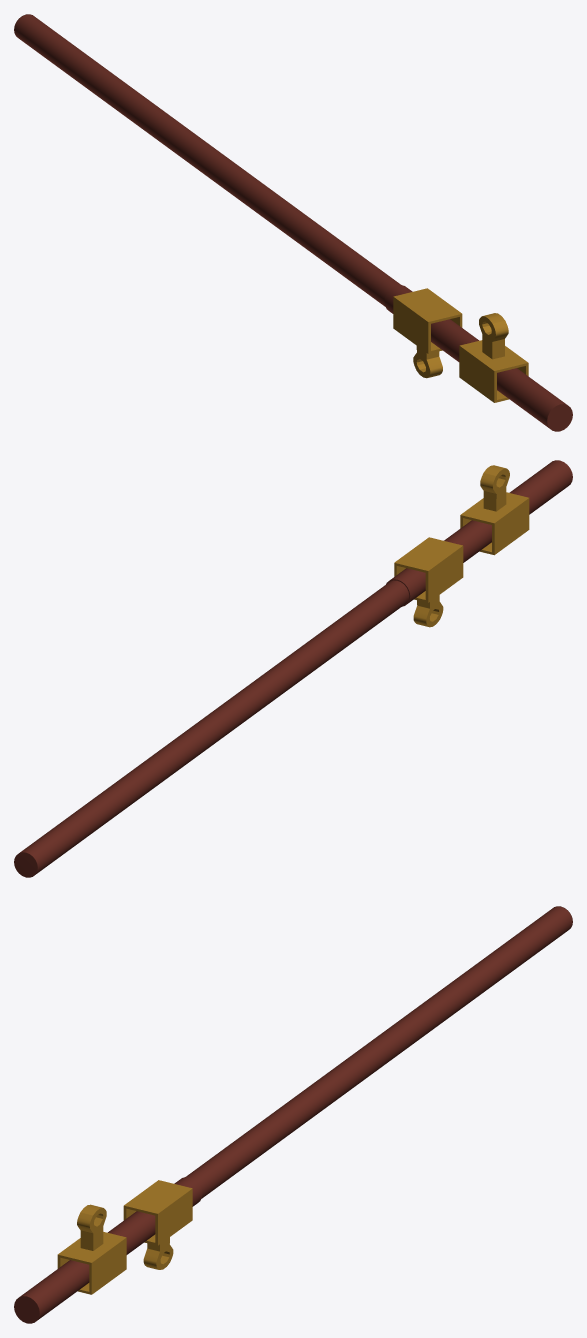
The picture shows the model from 3 angles, top to bottom: view 1: azimuth 30°, elevation 25°; view 2: azimuth 150°, elevation 25°; view 3: azimuth 330°, elevation 25°; orthographic projection.
Visible parts, largest first — view 1: pCylinder3; view 2: pCylinder3; view 3: pCylinder3.
Boxes of the visible parts, x1,y1,x2,y2 form: pCylinder3: (14, 14, 572, 431); pCylinder3: (14, 460, 572, 877); pCylinder3: (14, 906, 572, 1323).
Size of the model in its own units: 6.95 by 20.73 by 188.
